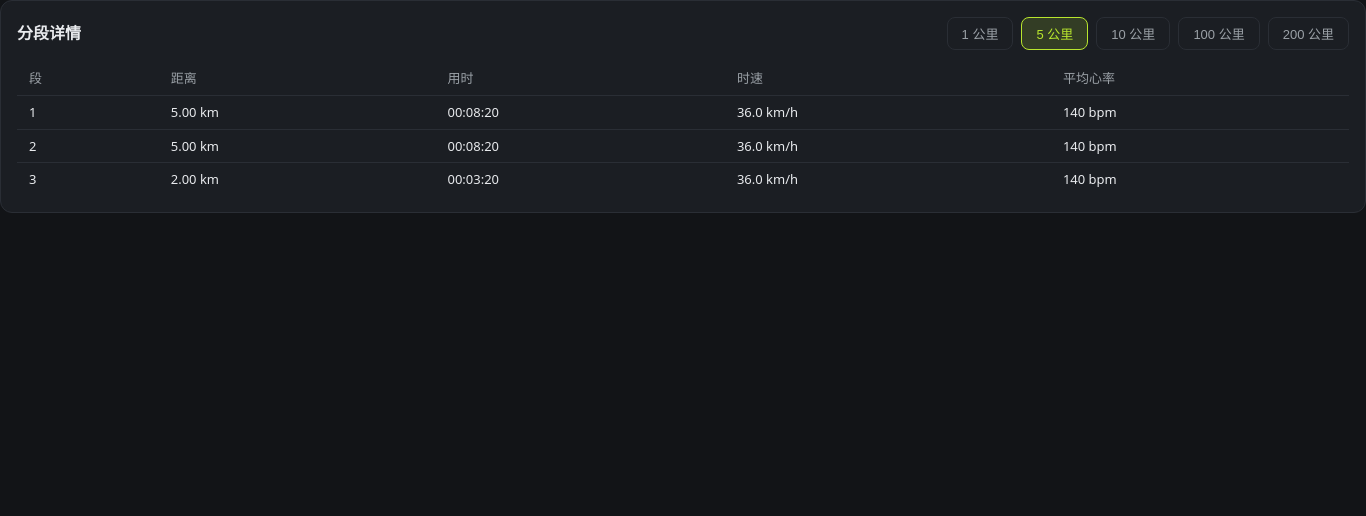
Test: 分段详情区块 › 切换 1km 段长后渲染 12 行
This screenshot has width=1366, height=516.
Click the button "1 公里". click: (980, 34)
box: [947,17,1013,50]
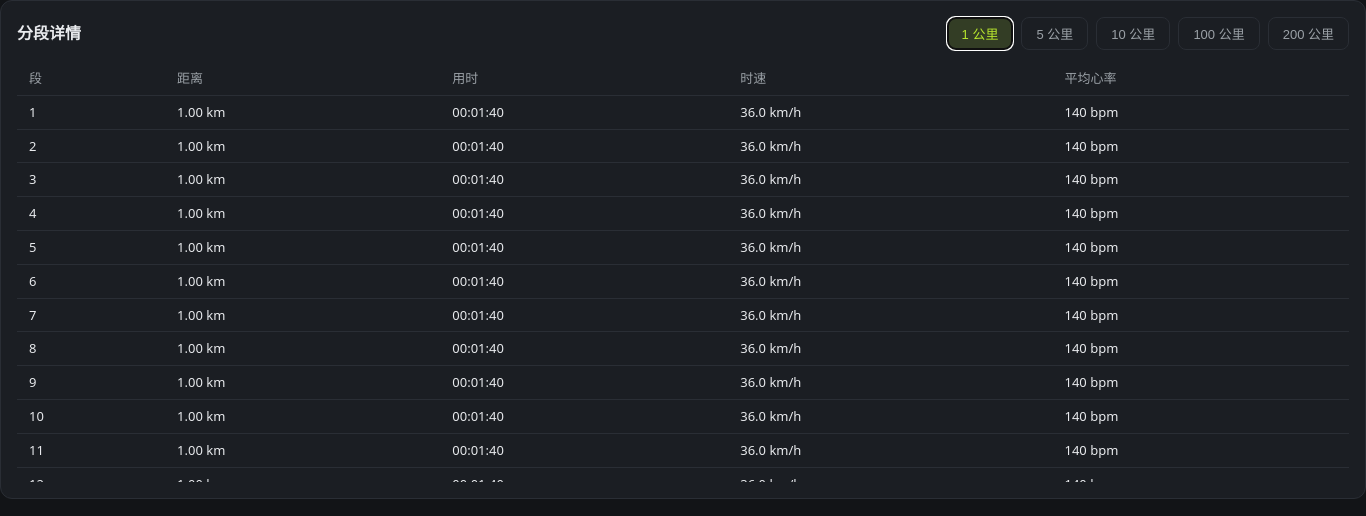
Check: the number of rows is 13
